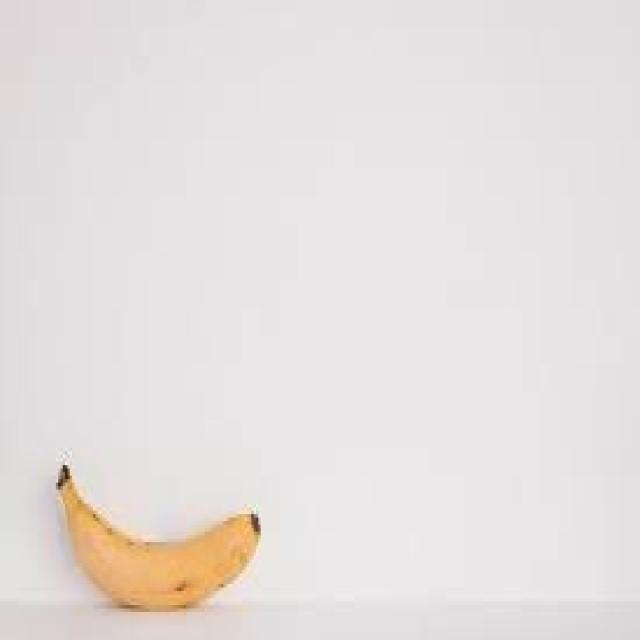banana: (54, 462, 260, 608)
